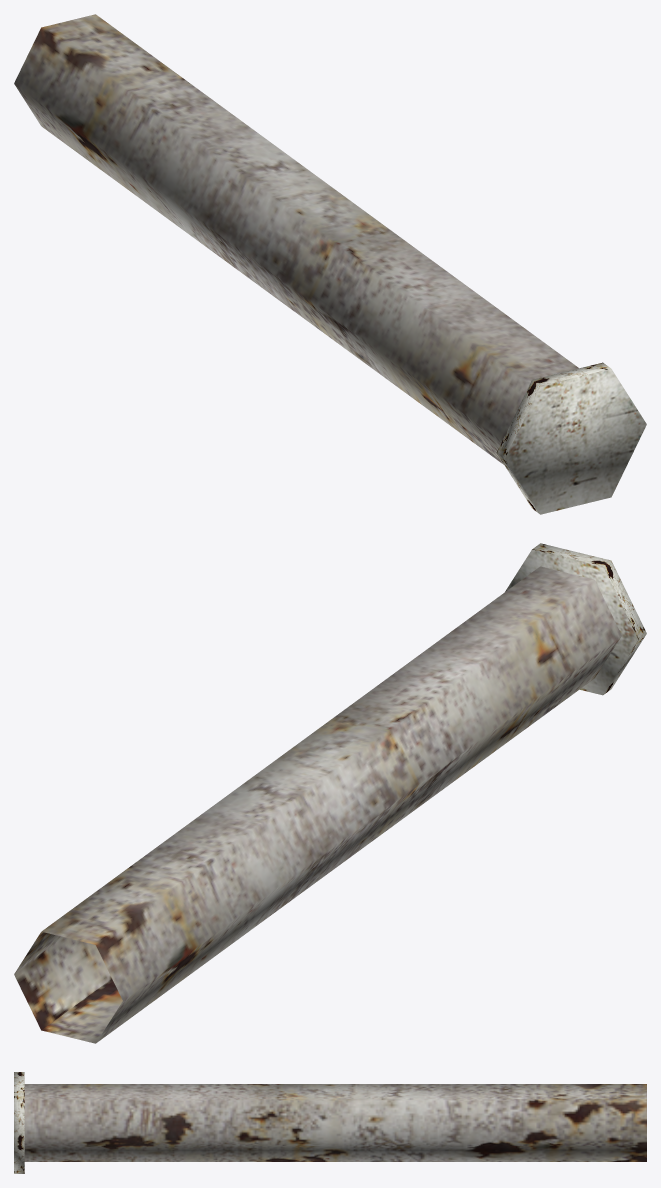
File: large_white_8.fbx
3 views of the same model, one above another, from view 1: azimuth 30°, elevation 25°; view 2: azimuth 150°, elevation 25°; view 3: azimuth 270°, elevation 25° (orthographic). The views are drawn at different scales.
Visible parts, largest first — view 1: polySurface642; view 2: polySurface642; view 3: polySurface642.
Part boxes in pixels (left/top/right/bottom): polySurface642: left=14, top=14, right=646, bottom=514; polySurface642: left=14, top=543, right=646, bottom=1043; polySurface642: left=14, top=1072, right=646, bottom=1173.
Bounding box in the file's own units: 1.3 × 1.13 × 8.07.
